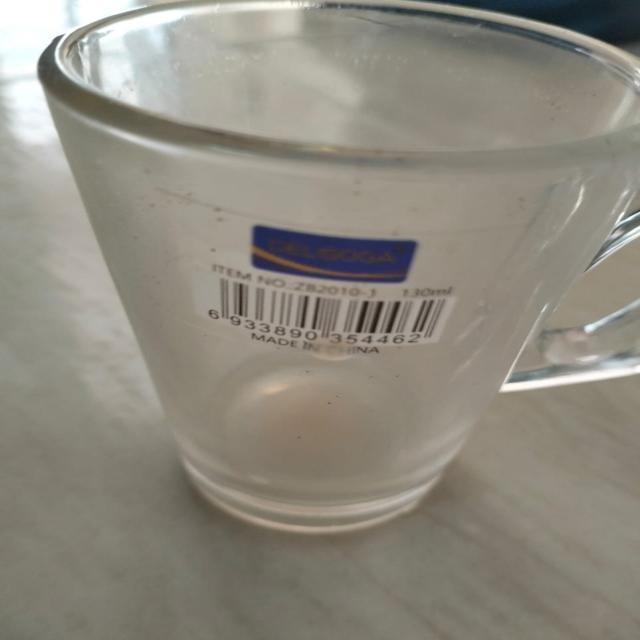glass-VX4N: (38, 0, 640, 532)
